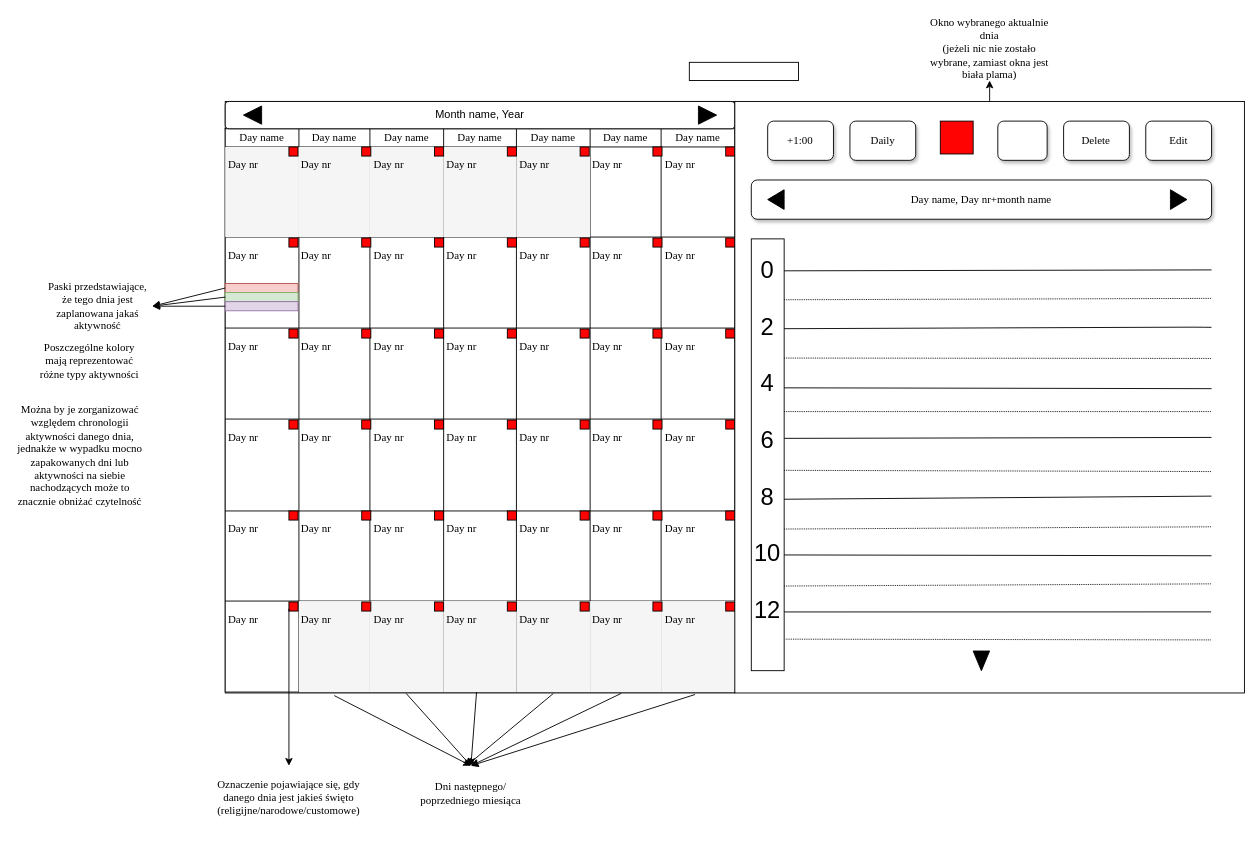
Image size: 1260x844. Some labels were removed from this diagram. The shapes that lost their labels are listed below. From the top down, each one's centre as x and y in pixels, then its label:
At pixel 743 71: "Monthly activity".
At pixel 1023 142: "Add".
